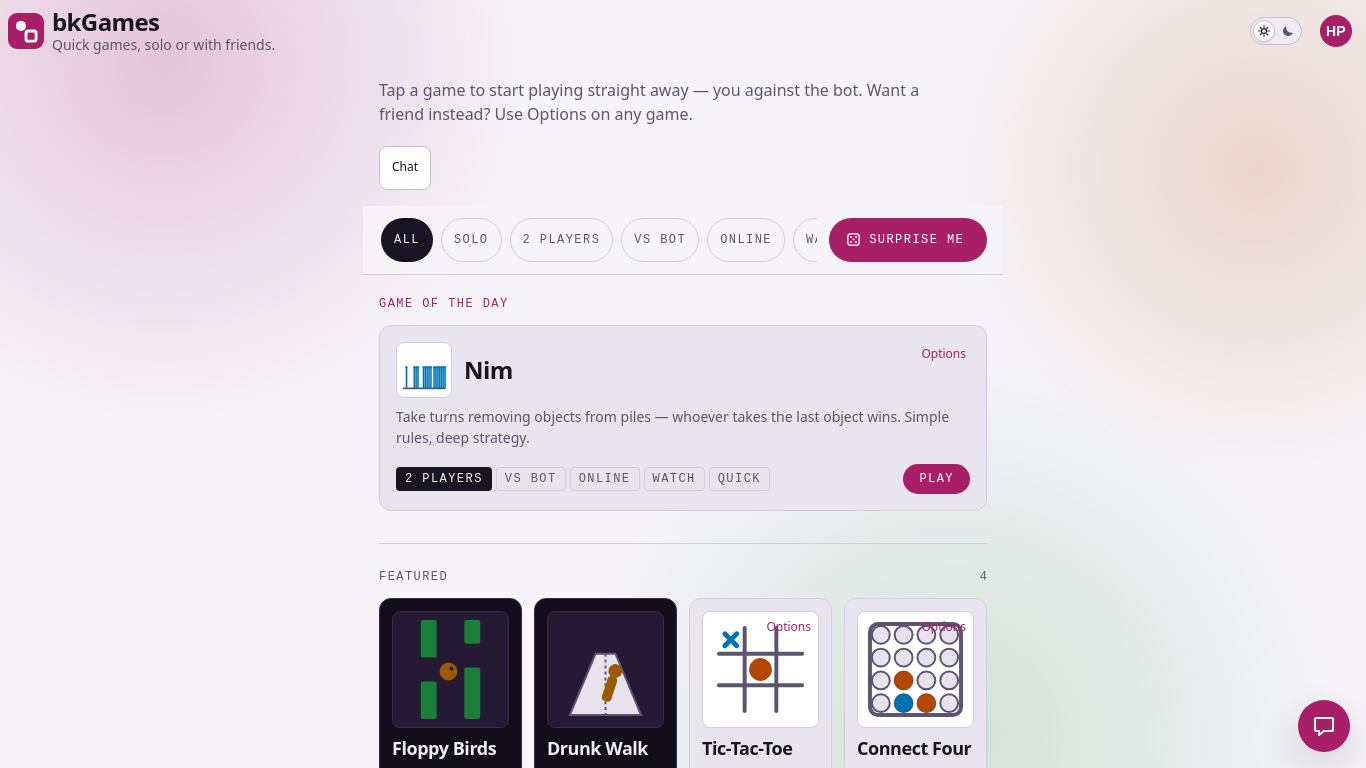
CHAT-024: chat overlay › Home's labelled entry point opens the overlay and updates the URL
Step 1. Click the button "Chat" → (405, 168), box left=379, top=146, right=431, bottom=190
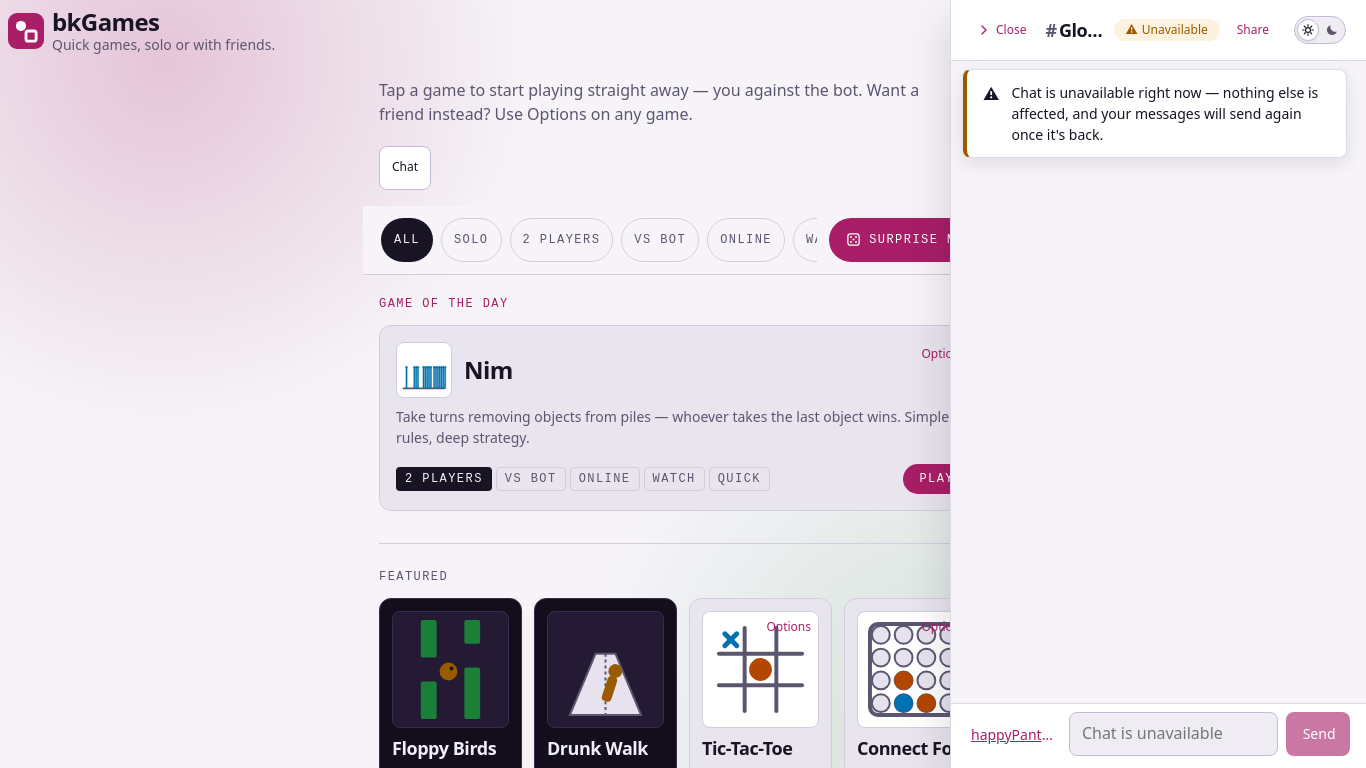
Expected: the heading "#Global" is shown, left=1046, top=16, right=1112, bottom=44
